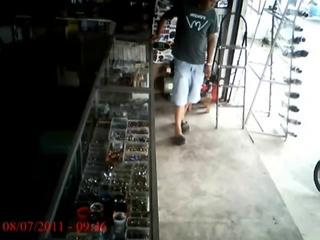Normal: (152, 0, 220, 146)
